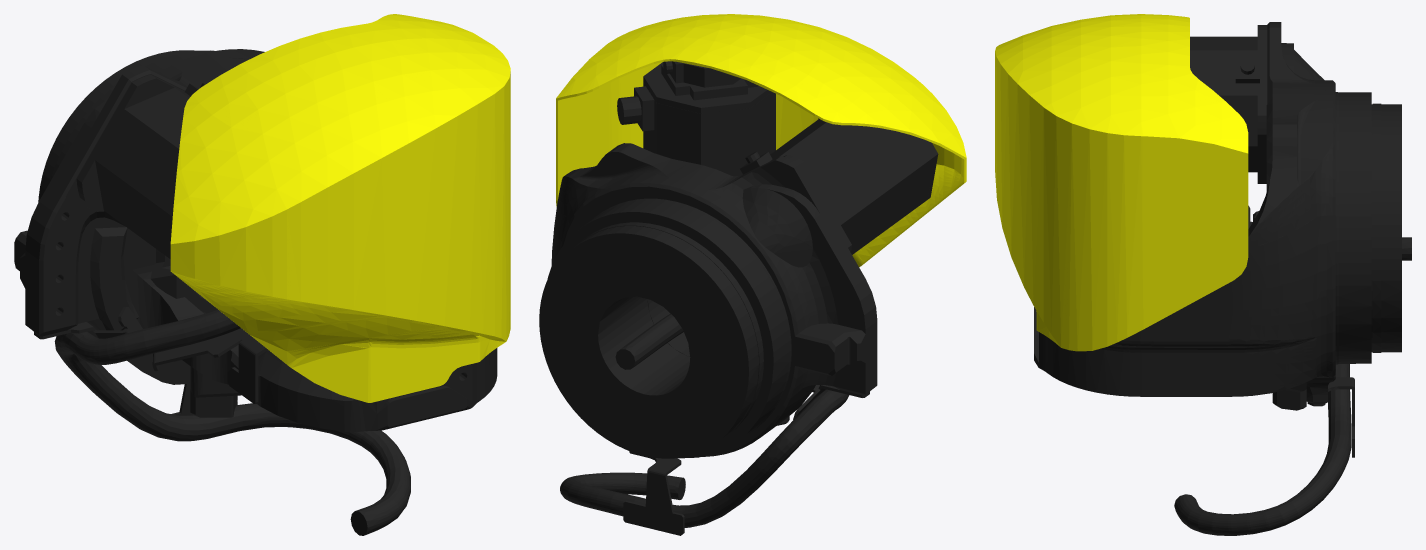
The picture shows the model from 3 angles, left to right: view 1: azimuth 30°, elevation 25°; view 2: azimuth 150°, elevation 25°; view 3: azimuth 270°, elevation 25°; orthographic projection. The views are drawn at different scales.
Visible parts, largest first — view 1: node; view 2: node; view 3: node.
Part boxes in pixels (x1,y1,x2,y2): node: (14,14,510,535); node: (539,14,966,535); node: (995,14,1411,535).
Bounding box in the file's own units: 403 × 517 × 428.
